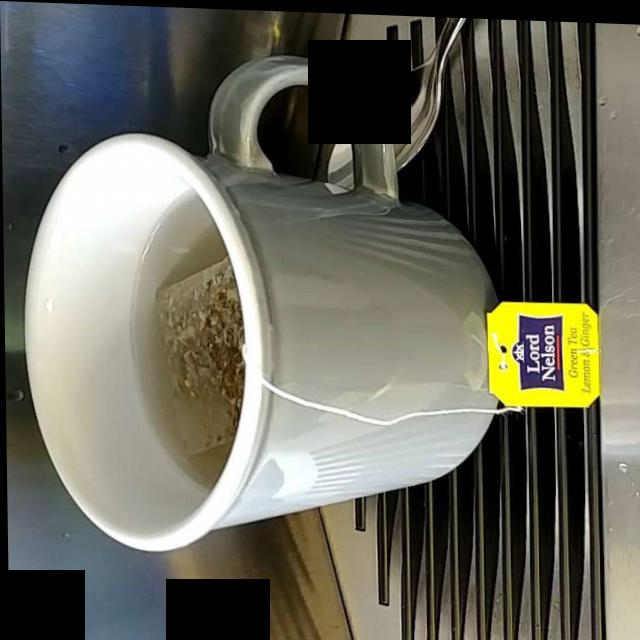tea-green: (150, 218, 241, 484)
